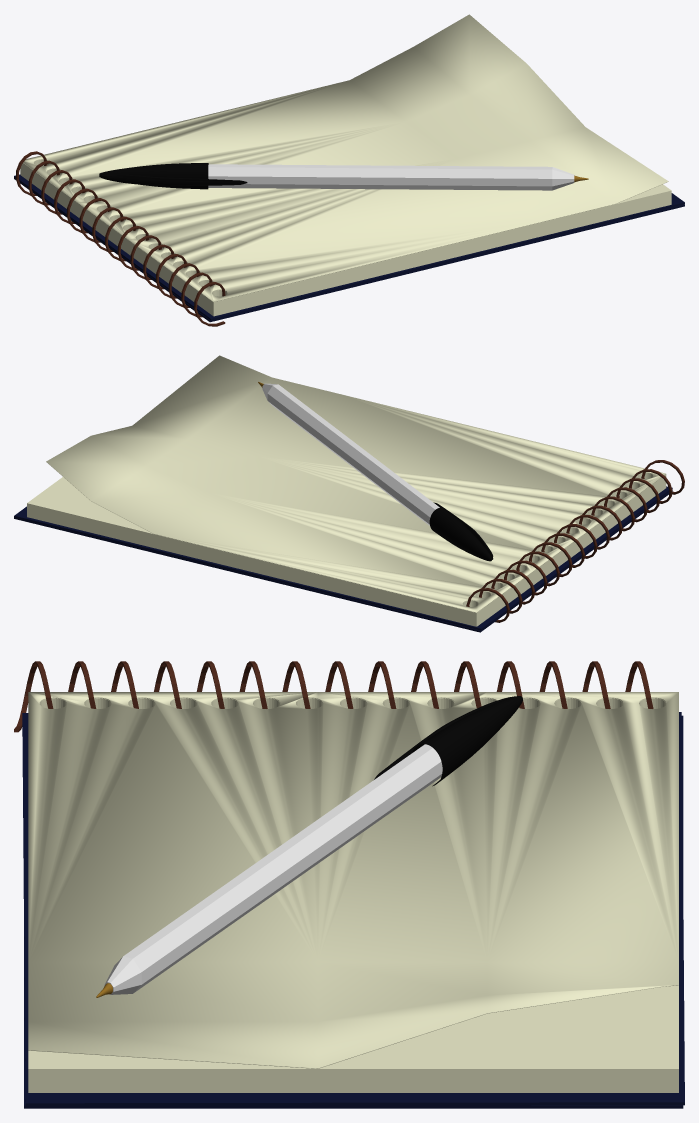
File: note_book.fbx
3 views of the same model, one above another, from view 1: azimuth 30°, elevation 25°; view 2: azimuth 150°, elevation 25°; view 3: azimuth 270°, elevation 25° (orthographic). The views are drawn at different scales.
Visible parts, largest first — view 1: Plane.003, Open_Black_Pen, Plane.002, Plane, Circle; view 2: Plane.003, Plane.002, Open_Black_Pen, Plane, Circle; view 3: Plane.003, Plane.002, Open_Black_Pen, Plane, Circle.
Part boxes in pixels (x1,y1,x2,y2): Plane.003: [20, 14, 668, 301]; Open_Black_Pen: [99, 163, 588, 190]; Plane.002: [20, 159, 671, 316]; Plane: [14, 174, 684, 322]; Circle: [15, 151, 225, 326]; Plane.003: [46, 355, 665, 612]; Plane.002: [27, 472, 666, 626]; Open_Black_Pen: [258, 382, 493, 561]; Plane: [14, 486, 672, 632]; Circle: [466, 460, 684, 622]; Plane.003: [28, 692, 678, 1068]; Plane.002: [28, 698, 678, 1092]; Open_Black_Pen: [96, 696, 522, 997]; Plane: [22, 712, 684, 1108]; Circle: [14, 661, 653, 732].
Size of the model in its own units: 14.42 by 1.8 by 10.17.
